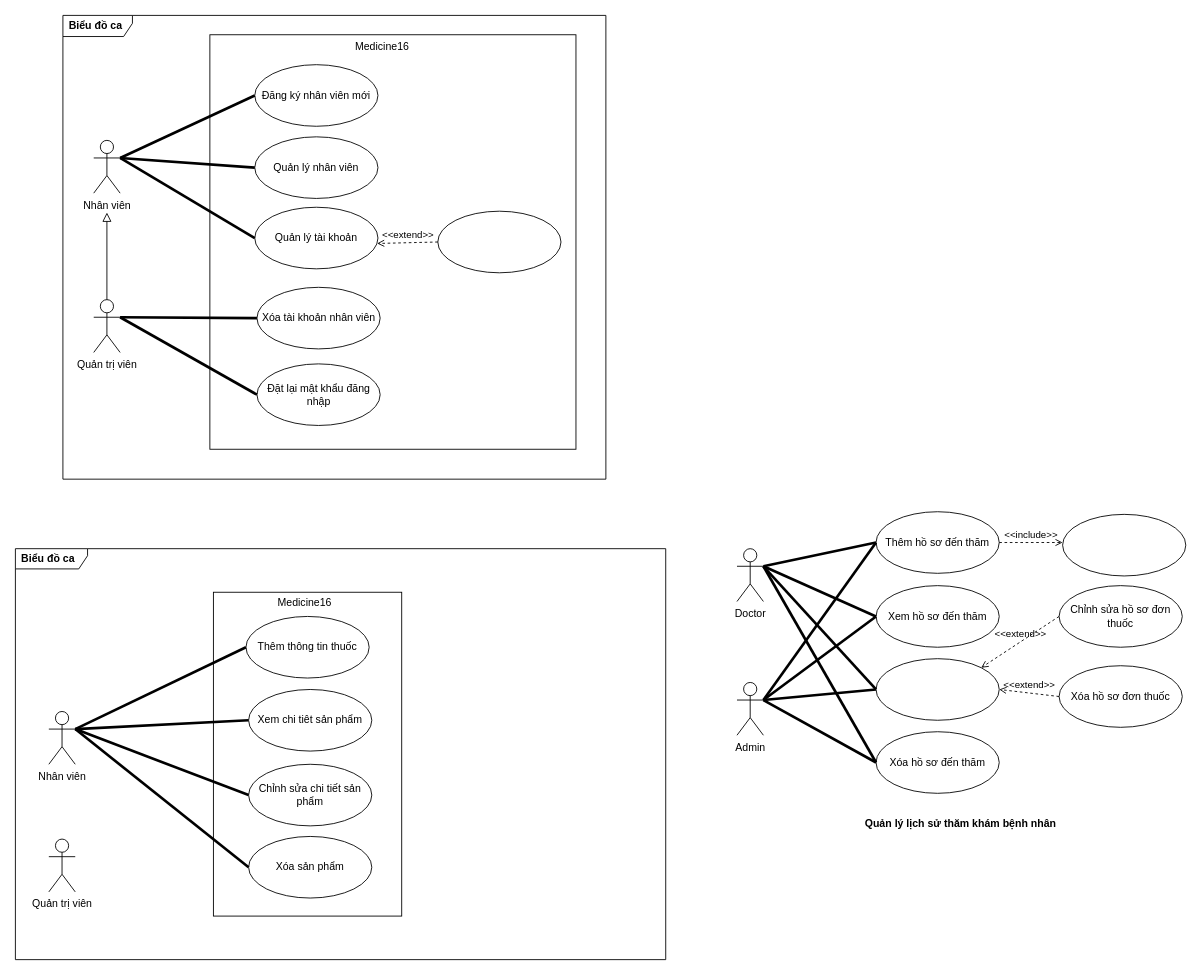
The diagram is 1201 pixels wide and 975 high, and some of its shapes have lost their labels. Here are the shapes that lost their labels. From the top down, the centre of each, then its label:
point 499,241: Thay đổi mật khẩu
point 1124,544: Thêm hồ sơ đơn thuốc
point 937,689: Chỉnh sửa hồ sơ đến thăm
